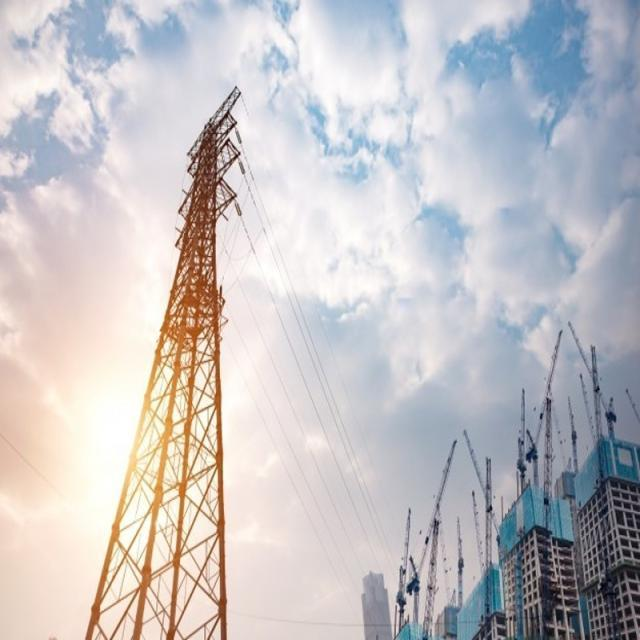non-critical vegetation: (85, 76, 268, 636)
